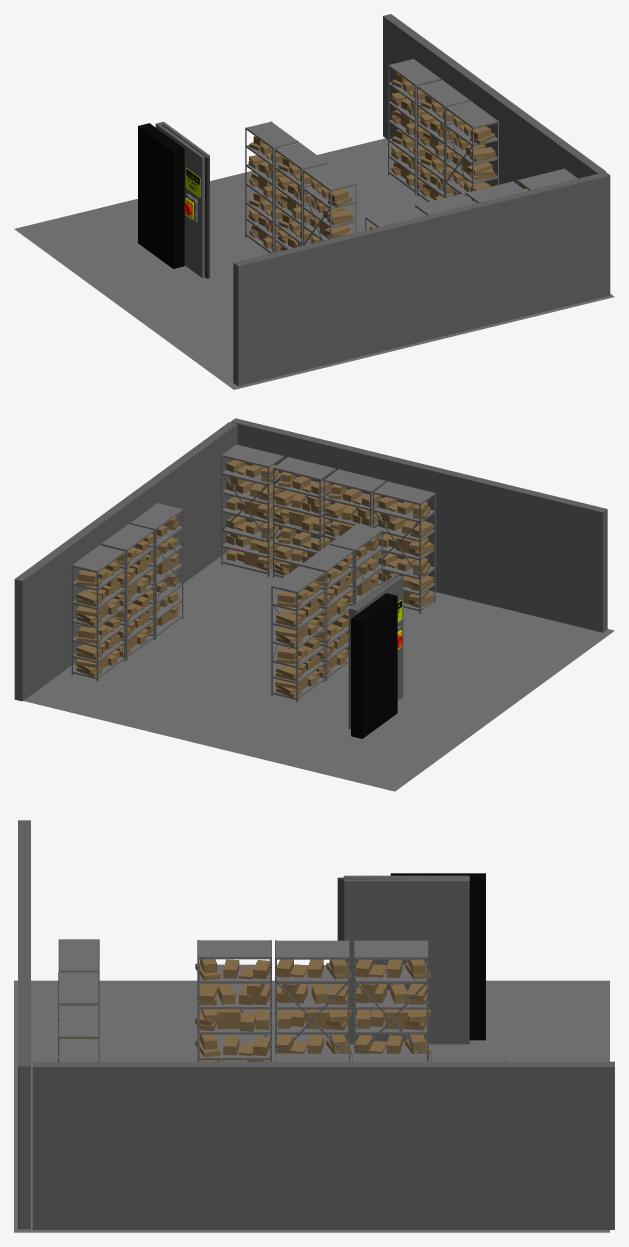
The model's file is FNAF9 SECURITY BREACH STAFF ONLY ROOM.fbx.
3 renders of one model, top to bottom at view 1: azimuth 30°, elevation 25°; view 2: azimuth 150°, elevation 25°; view 3: azimuth 270°, elevation 25°, orthographic. The views are drawn at different scales.
Parts seen in each view (by area): view 1: Cube.002, Плоскость.002, Cube.003, Куб.001, Cube, Куб.026, Куб.029, Куб.006, Куб.030, Куб.007, Куб.020, Куб.021 (+10 smaller); view 2: Плоскость.002, Cube.002, Cube.003, Куб.001, Куб.024, Куб.014, Куб.018, Куб.030, Куб.007, Куб.023, Куб.013, Куб.029 (+13 smaller); view 3: Cube.003, Плоскость.002, Cube, Куб.004, Cube.002, Куб.007, Куб.012, Куб.006, Куб.015, Куб.003, Куб.001, Куб.013 (+7 smaller).
Boxes of the visible parts, <box> form: Cube.002: <box>233,172,610,386</box>; Плоскость.002: <box>14,138,614,389</box>; Cube.003: <box>383,14,605,188</box>; Куб.001: <box>138,123,184,268</box>; Cube: <box>155,121,209,277</box>; Куб.026: <box>445,101,498,202</box>; Куб.029: <box>388,58,441,195</box>; Куб.006: <box>245,121,298,253</box>; Куб.030: <box>391,73,427,189</box>; Куб.007: <box>248,136,285,251</box>; Куб.020: <box>417,80,470,201</box>; Куб.021: <box>420,94,457,200</box>; Плоскость.002: <box>14,549,614,791</box>; Cube.002: <box>231,418,607,632</box>; Cube.003: <box>14,422,237,701</box>; Куб.001: <box>351,593,397,738</box>; Куб.024: <box>226,460,282,567</box>; Куб.014: <box>378,497,433,604</box>; Куб.018: <box>274,471,330,573</box>; Куб.030: <box>75,561,119,673</box>; Куб.007: <box>275,582,319,694</box>; Куб.023: <box>221,444,283,576</box>; Куб.013: <box>373,481,435,613</box>; Куб.029: <box>71,545,125,681</box>; Cube.003: <box>32,1061,614,1229</box>; Плоскость.002: <box>14,980,609,1232</box>; Cube: <box>343,875,469,1044</box>; Куб.004: <box>195,959,269,1061</box>; Cube.002: <box>18,820,30,1229</box>; Куб.007: <box>356,959,430,1060</box>; Куб.012: <box>277,959,352,1060</box>; Куб.006: <box>354,940,428,1061</box>; Куб.015: <box>275,940,349,1053</box>; Куб.003: <box>197,940,271,1061</box>; Куб.001: <box>390,873,485,1040</box>; Куб.013: <box>58,939,99,1039</box>.
Size of the model in its own units: 3403 by 1064 by 3430.
